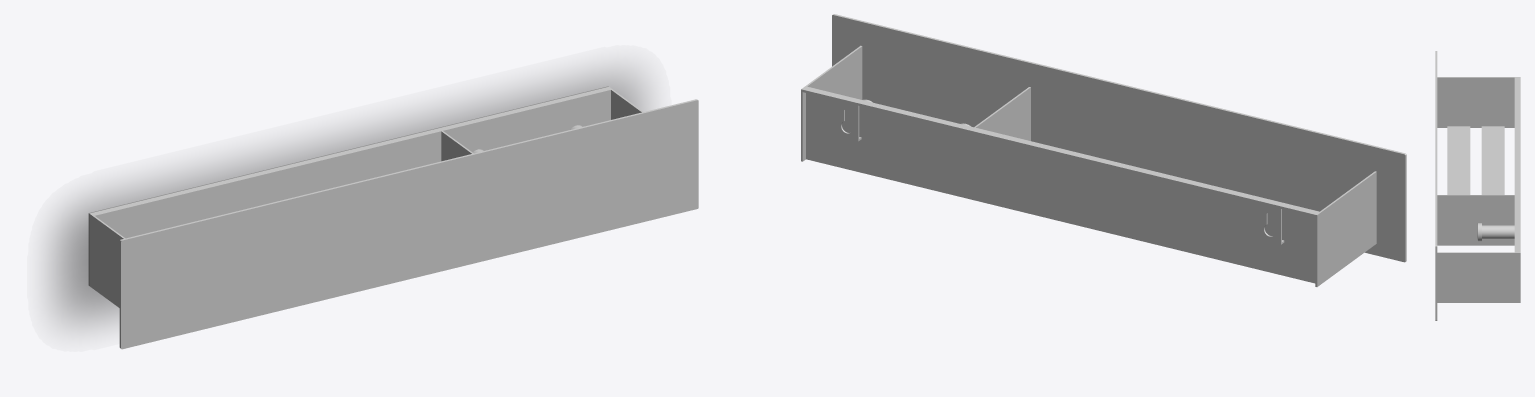
Rendered from skyline-patron.500c98a3a0.ar.glb.
3 renders of one model, left to right at view 1: azimuth 30°, elevation 25°; view 2: azimuth 150°, elevation 25°; view 3: azimuth 270°, elevation 25°, orthographic. The views are drawn at different scales.
Parts seen in each view (by area): view 1: NAUO1, object 2; view 2: NAUO1; view 3: NAUO1.
Part boxes in pixels (x1,y1,x2,y2): NAUO1: (88, 86, 698, 349); object 2: (49, 70, 648, 326); NAUO1: (801, 14, 1406, 286); NAUO1: (1435, 51, 1520, 320).
Size of the model in its own units: 0.58 by 0.17 by 0.092.
2 materials, 1 textured.
